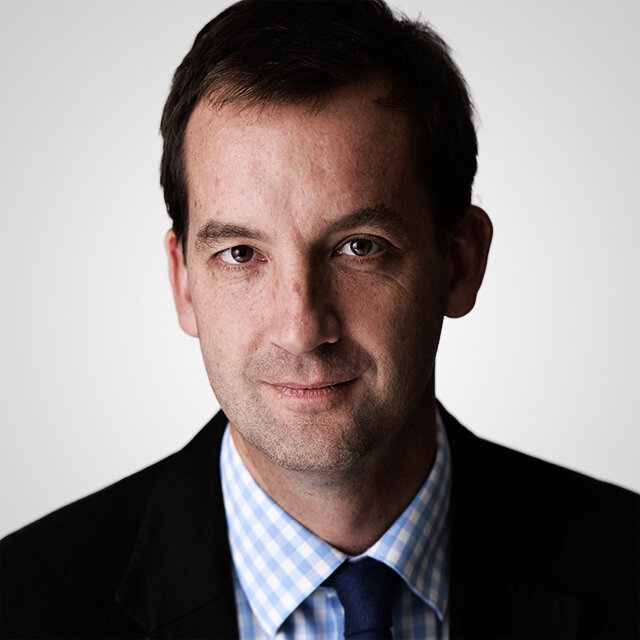human: (154, 88, 490, 463)
